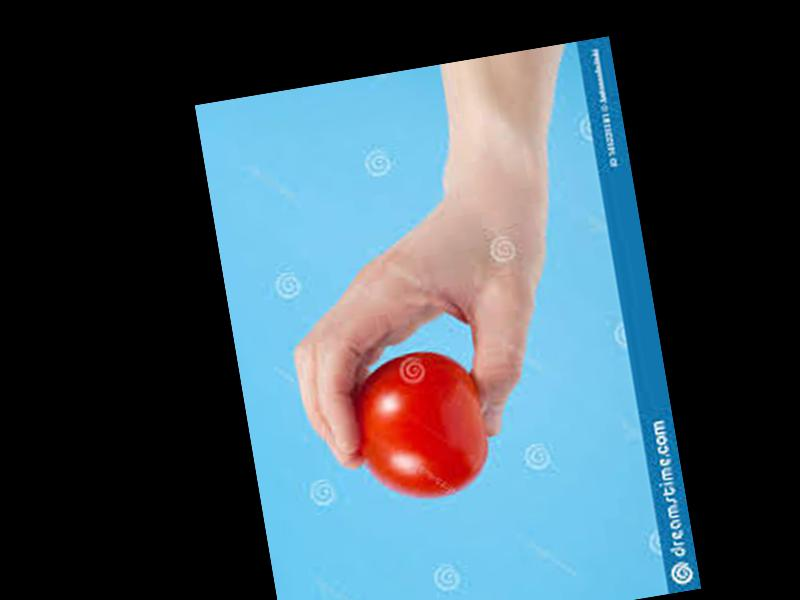Tomato: (343, 344, 495, 508)
